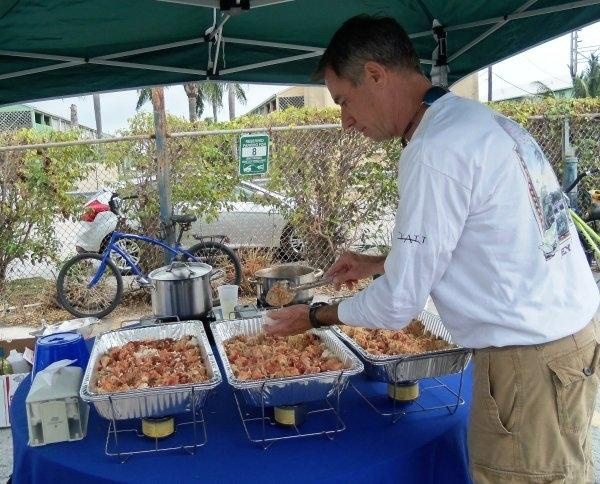non-vehicle: (56, 192, 241, 318), (563, 166, 600, 270)
